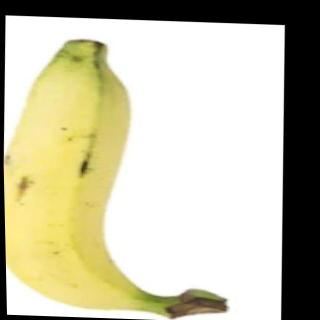banana: (0, 32, 154, 316)
